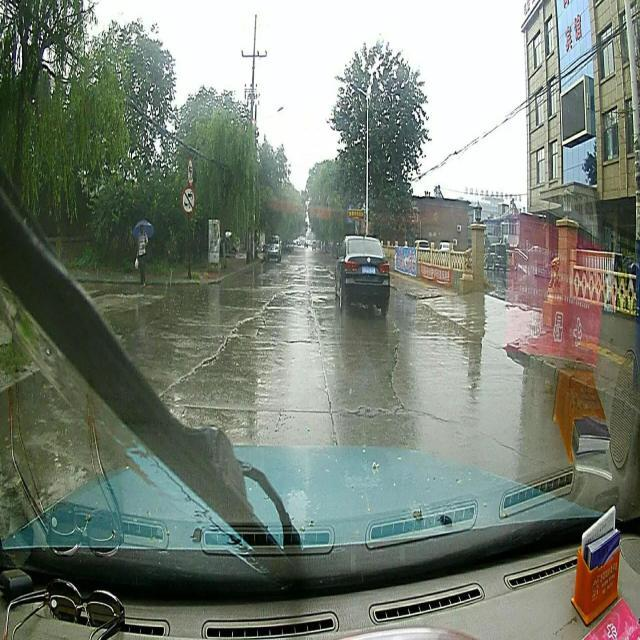car: (334, 232, 391, 313), (265, 233, 281, 260)
